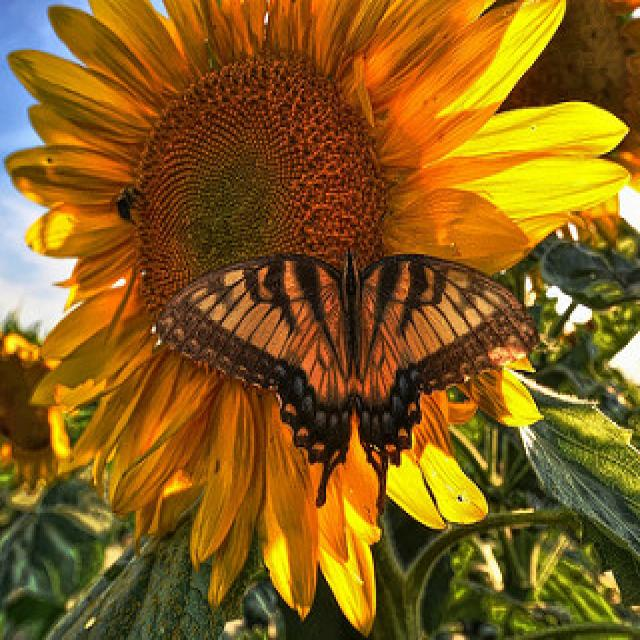sunflower: (12, 0, 586, 591)
